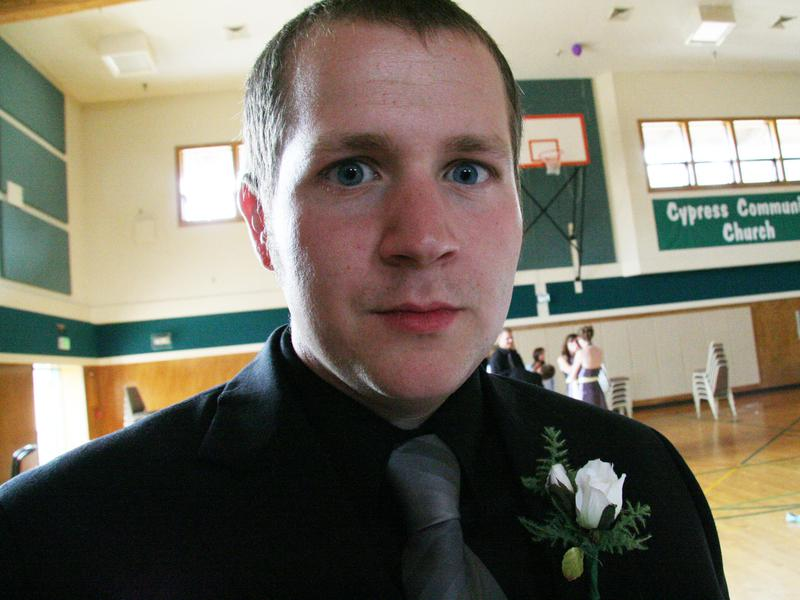person: (7, 3, 728, 598)
